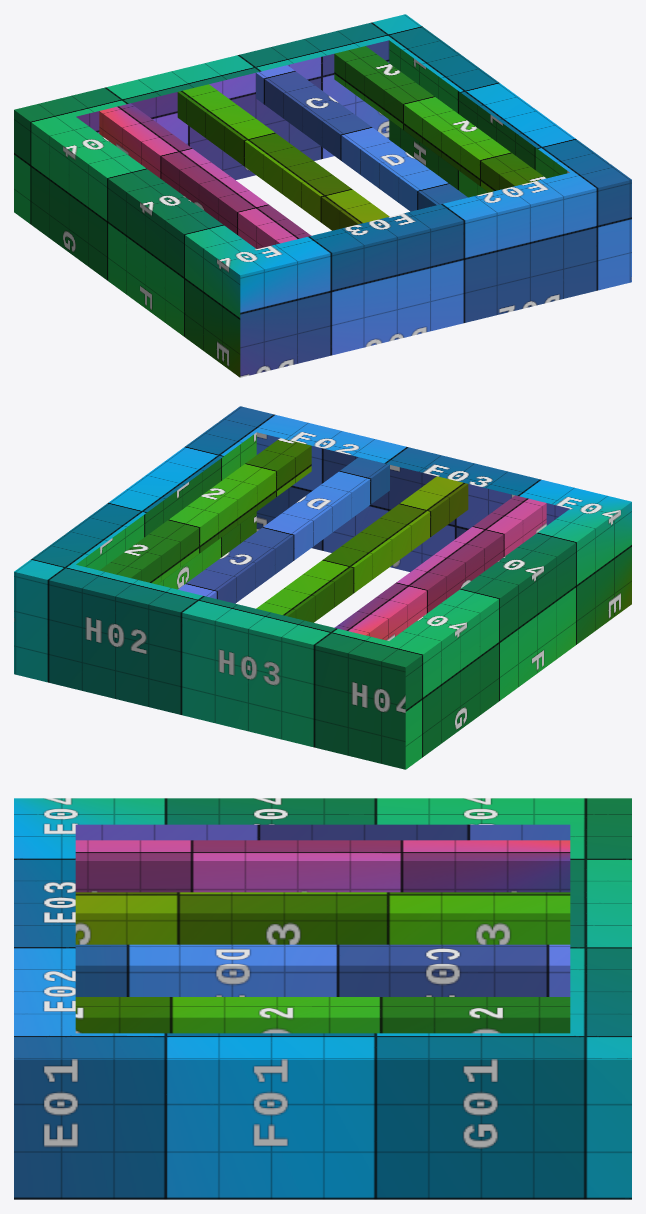
File: PSS_low.fbx
3 views of the same model, one above another, from view 1: azimuth 30°, elevation 25°; view 2: azimuth 150°, elevation 25°; view 3: azimuth 270°, elevation 25° (orthographic). The views are drawn at different scales.
Parts seen in each view (by area): view 1: PSS_low; view 2: PSS_low; view 3: PSS_low.
Part boxes in pixels (x1=…): PSS_low: x1=14, y1=14, x2=631, y2=377; PSS_low: x1=14, y1=406, x2=631, y2=769; PSS_low: x1=14, y1=798, x2=631, y2=1199.
Size of the model in its own units: 200 by 50 by 200.
